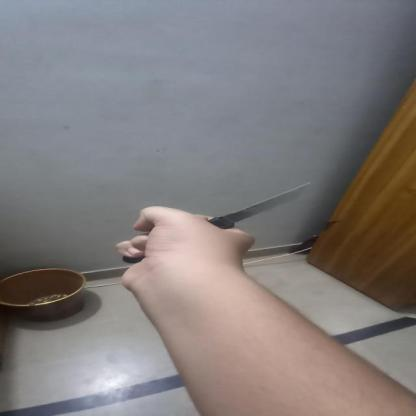Knife: (116, 180, 322, 262)
